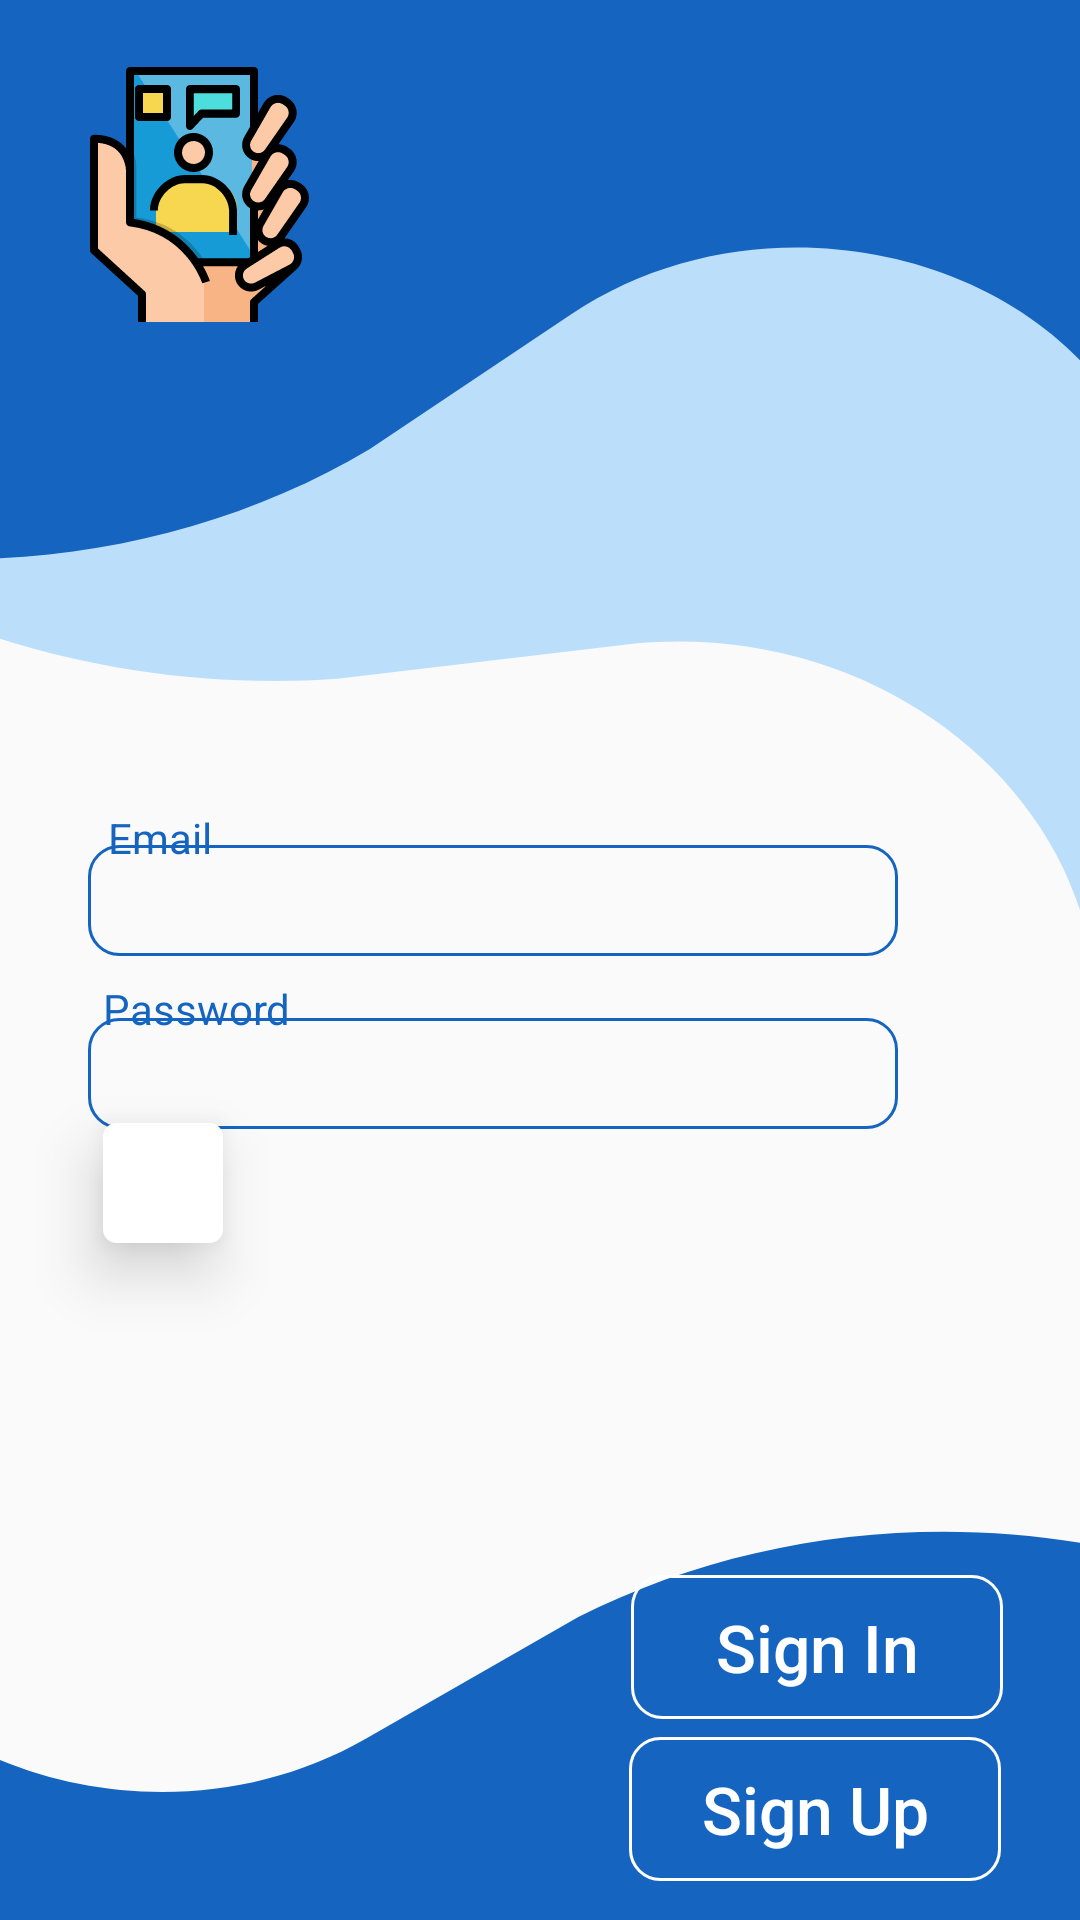

Screen size 1080*1920. Icon name, then its center in pixels as (x=x, y=y):
video calling: (x=199, y=194)
